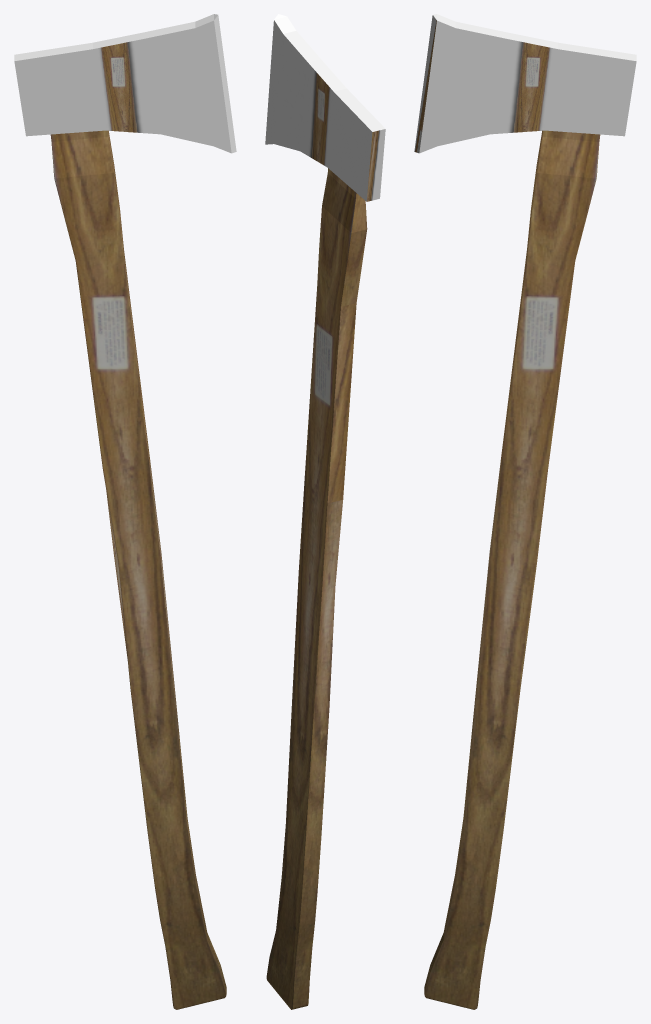
File: WoodAxeV1.fbx
3 renders of one model, left to right at view 1: azimuth 90°, elevation 25°; view 2: azimuth 210°, elevation 25°; view 3: azimuth 270°, elevation 25°, orthographic.
Visible parts, largest first — view 1: Cube, Cube.001; view 2: Cube, Cube.001; view 3: Cube, Cube.001.
Boxes of the visible parts, x1,y1,x2,y2 form: Cube: (50,130,226,1009); Cube.001: (14,14,236,153); Cube: (266,168,367,1009); Cube.001: (265,14,385,201); Cube: (424,130,600,1009); Cube.001: (414,14,636,153).
Bounding box in the file's own units: 0.1916 × 11.17 × 2.27.
